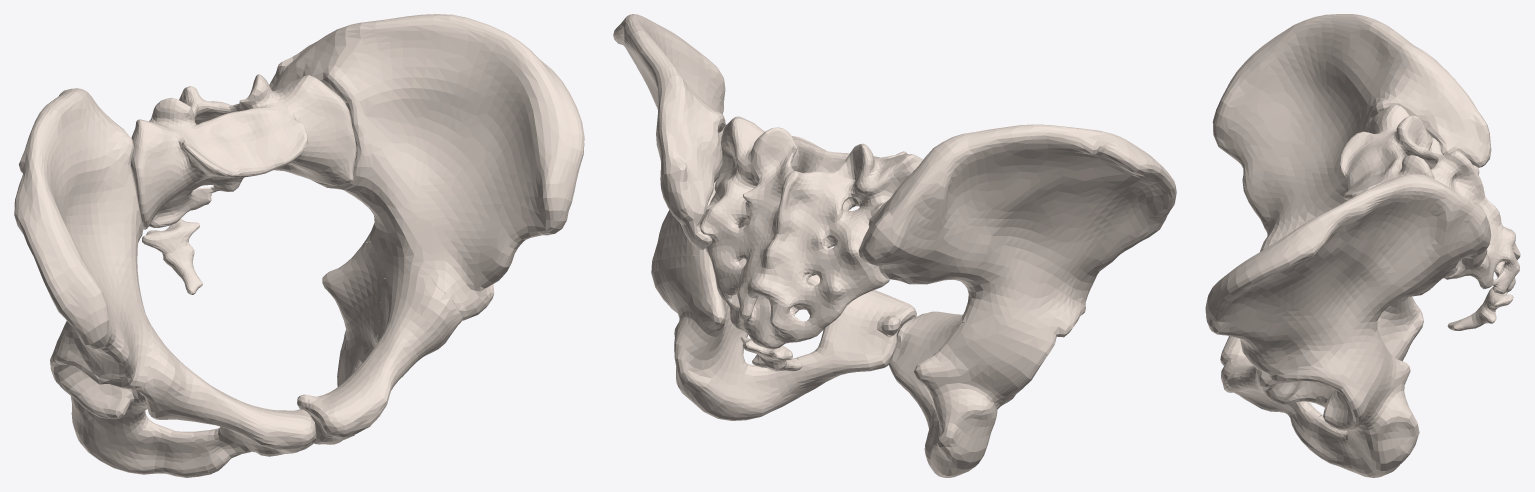
The model's file is VH_F_Pelvis_0.6.glb.
3 renders of one model, left to right at view 1: azimuth 30°, elevation 25°; view 2: azimuth 150°, elevation 25°; view 3: azimuth 270°, elevation 25°, orthographic. The views are drawn at different scales.
Parts seen in each view (by area): view 1: VH_F_ilium_compact_bone_L, VH_F_ilium_compact_bone_R, VH_F_sacrum, VH_F_pubis_compact_bone_L, VH_F_pubis_compact_bone_R, VH_F_ischium_compact_bone_R, VH_F_ischium_compact_bone_L, VH_F_coccyx; view 2: VH_F_ilium_compact_bone_R, VH_F_sacrum, VH_F_ilium_compact_bone_L, VH_F_ischium_compact_bone_L, VH_F_ischium_compact_bone_R, VH_F_pubis_compact_bone_L, VH_F_pubis_compact_bone_R, VH_F_coccyx; view 3: VH_F_ilium_compact_bone_L, VH_F_ilium_compact_bone_R, VH_F_sacrum, VH_F_ischium_compact_bone_L, VH_F_pubis_compact_bone_L, VH_F_ischium_compact_bone_R, VH_F_coccyx, VH_F_pubis_compact_bone_R.
Part boxes in pixels (bbox=[...]): VH_F_ilium_compact_bone_L: bbox=[269, 14, 584, 320]; VH_F_ilium_compact_bone_R: bbox=[14, 88, 153, 392]; VH_F_sacrum: bbox=[130, 74, 356, 229]; VH_F_pubis_compact_bone_L: bbox=[297, 263, 462, 444]; VH_F_pubis_compact_bone_R: bbox=[140, 325, 316, 474]; VH_F_ischium_compact_bone_R: bbox=[50, 361, 209, 477]; VH_F_ischium_compact_bone_L: bbox=[322, 238, 382, 436]; VH_F_coccyx: bbox=[142, 219, 202, 294]; VH_F_ilium_compact_bone_R: bbox=[858, 124, 1176, 354]; VH_F_sacrum: bbox=[700, 116, 922, 349]; VH_F_ilium_compact_bone_L: bbox=[613, 14, 745, 260]; VH_F_ischium_compact_bone_L: bbox=[651, 255, 806, 420]; VH_F_ischium_compact_bone_R: bbox=[914, 322, 1048, 477]; VH_F_pubis_compact_bone_L: bbox=[740, 258, 916, 393]; VH_F_pubis_compact_bone_R: bbox=[889, 311, 962, 420]; VH_F_coccyx: bbox=[740, 336, 802, 371]; VH_F_ilium_compact_bone_L: bbox=[1205, 174, 1491, 401]; VH_F_ilium_compact_bone_R: bbox=[1212, 14, 1491, 235]; VH_F_sacrum: bbox=[1339, 104, 1520, 294]; VH_F_ischium_compact_bone_L: bbox=[1308, 342, 1419, 477]; VH_F_pubis_compact_bone_L: bbox=[1221, 357, 1322, 447]; VH_F_ischium_compact_bone_R: bbox=[1377, 296, 1423, 361]; VH_F_coccyx: bbox=[1447, 287, 1513, 330]; VH_F_pubis_compact_bone_R: bbox=[1220, 222, 1306, 365].
Bounding box in the file's own units: 0.3168 × 0.2115 × 0.1827.
